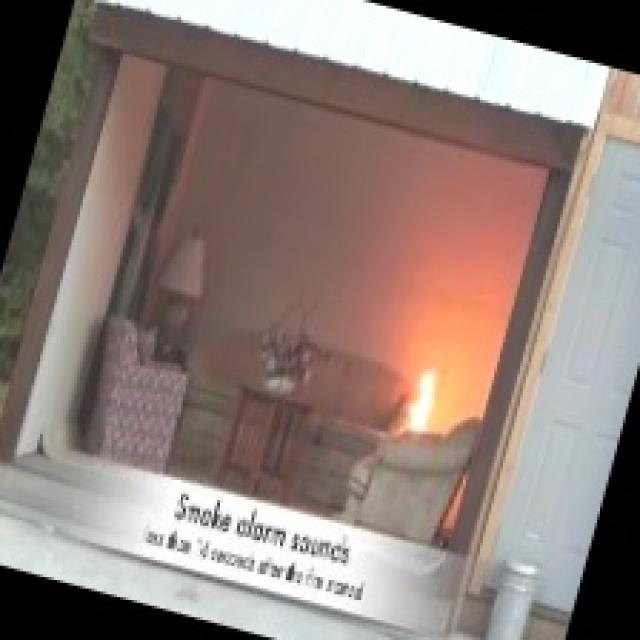fire: (390, 339, 459, 444)
